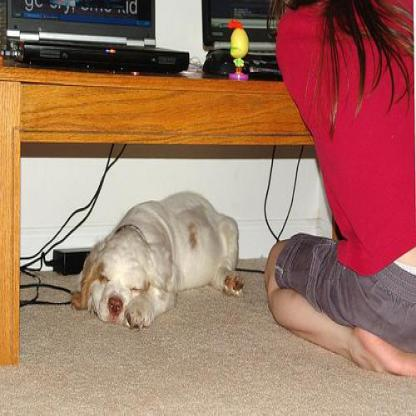clumber: (66, 189, 247, 327)
